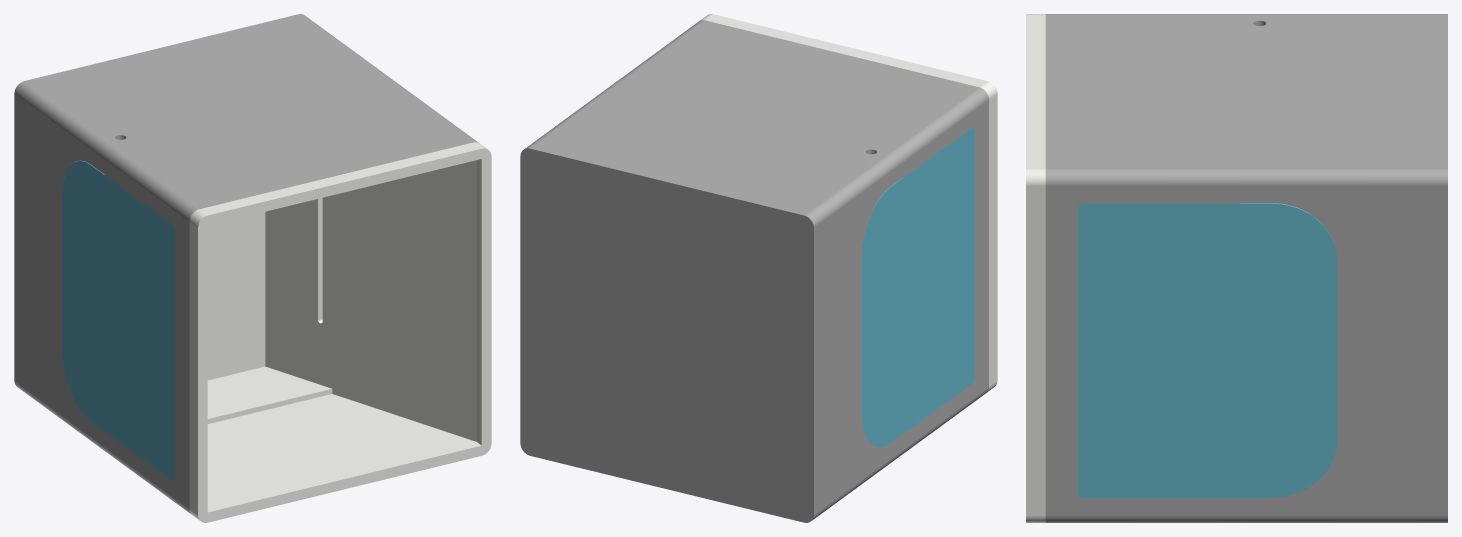
3 views of the same model, side by side, from view 1: azimuth 30°, elevation 25°; view 2: azimuth 150°, elevation 25°; view 3: azimuth 270°, elevation 25° (orthographic). The views are drawn at different scales.
Visible parts, largest first — view 1: Body1 (×3), Body2; view 2: Body1 (×3), Body2; view 3: Body1 (×3), Body2.
Part boxes in pixels (x1,y1,x2,y2): Body1 (×3): [14, 14, 478, 514]; Body2: [189, 142, 491, 522]; Body1 (×3): [520, 20, 988, 522]; Body2: [700, 14, 997, 392]; Body1 (×3): [1045, 14, 1447, 522]; Body2: [1026, 14, 1045, 522].
Size of the model in its own units: 600 by 600 by 650.
